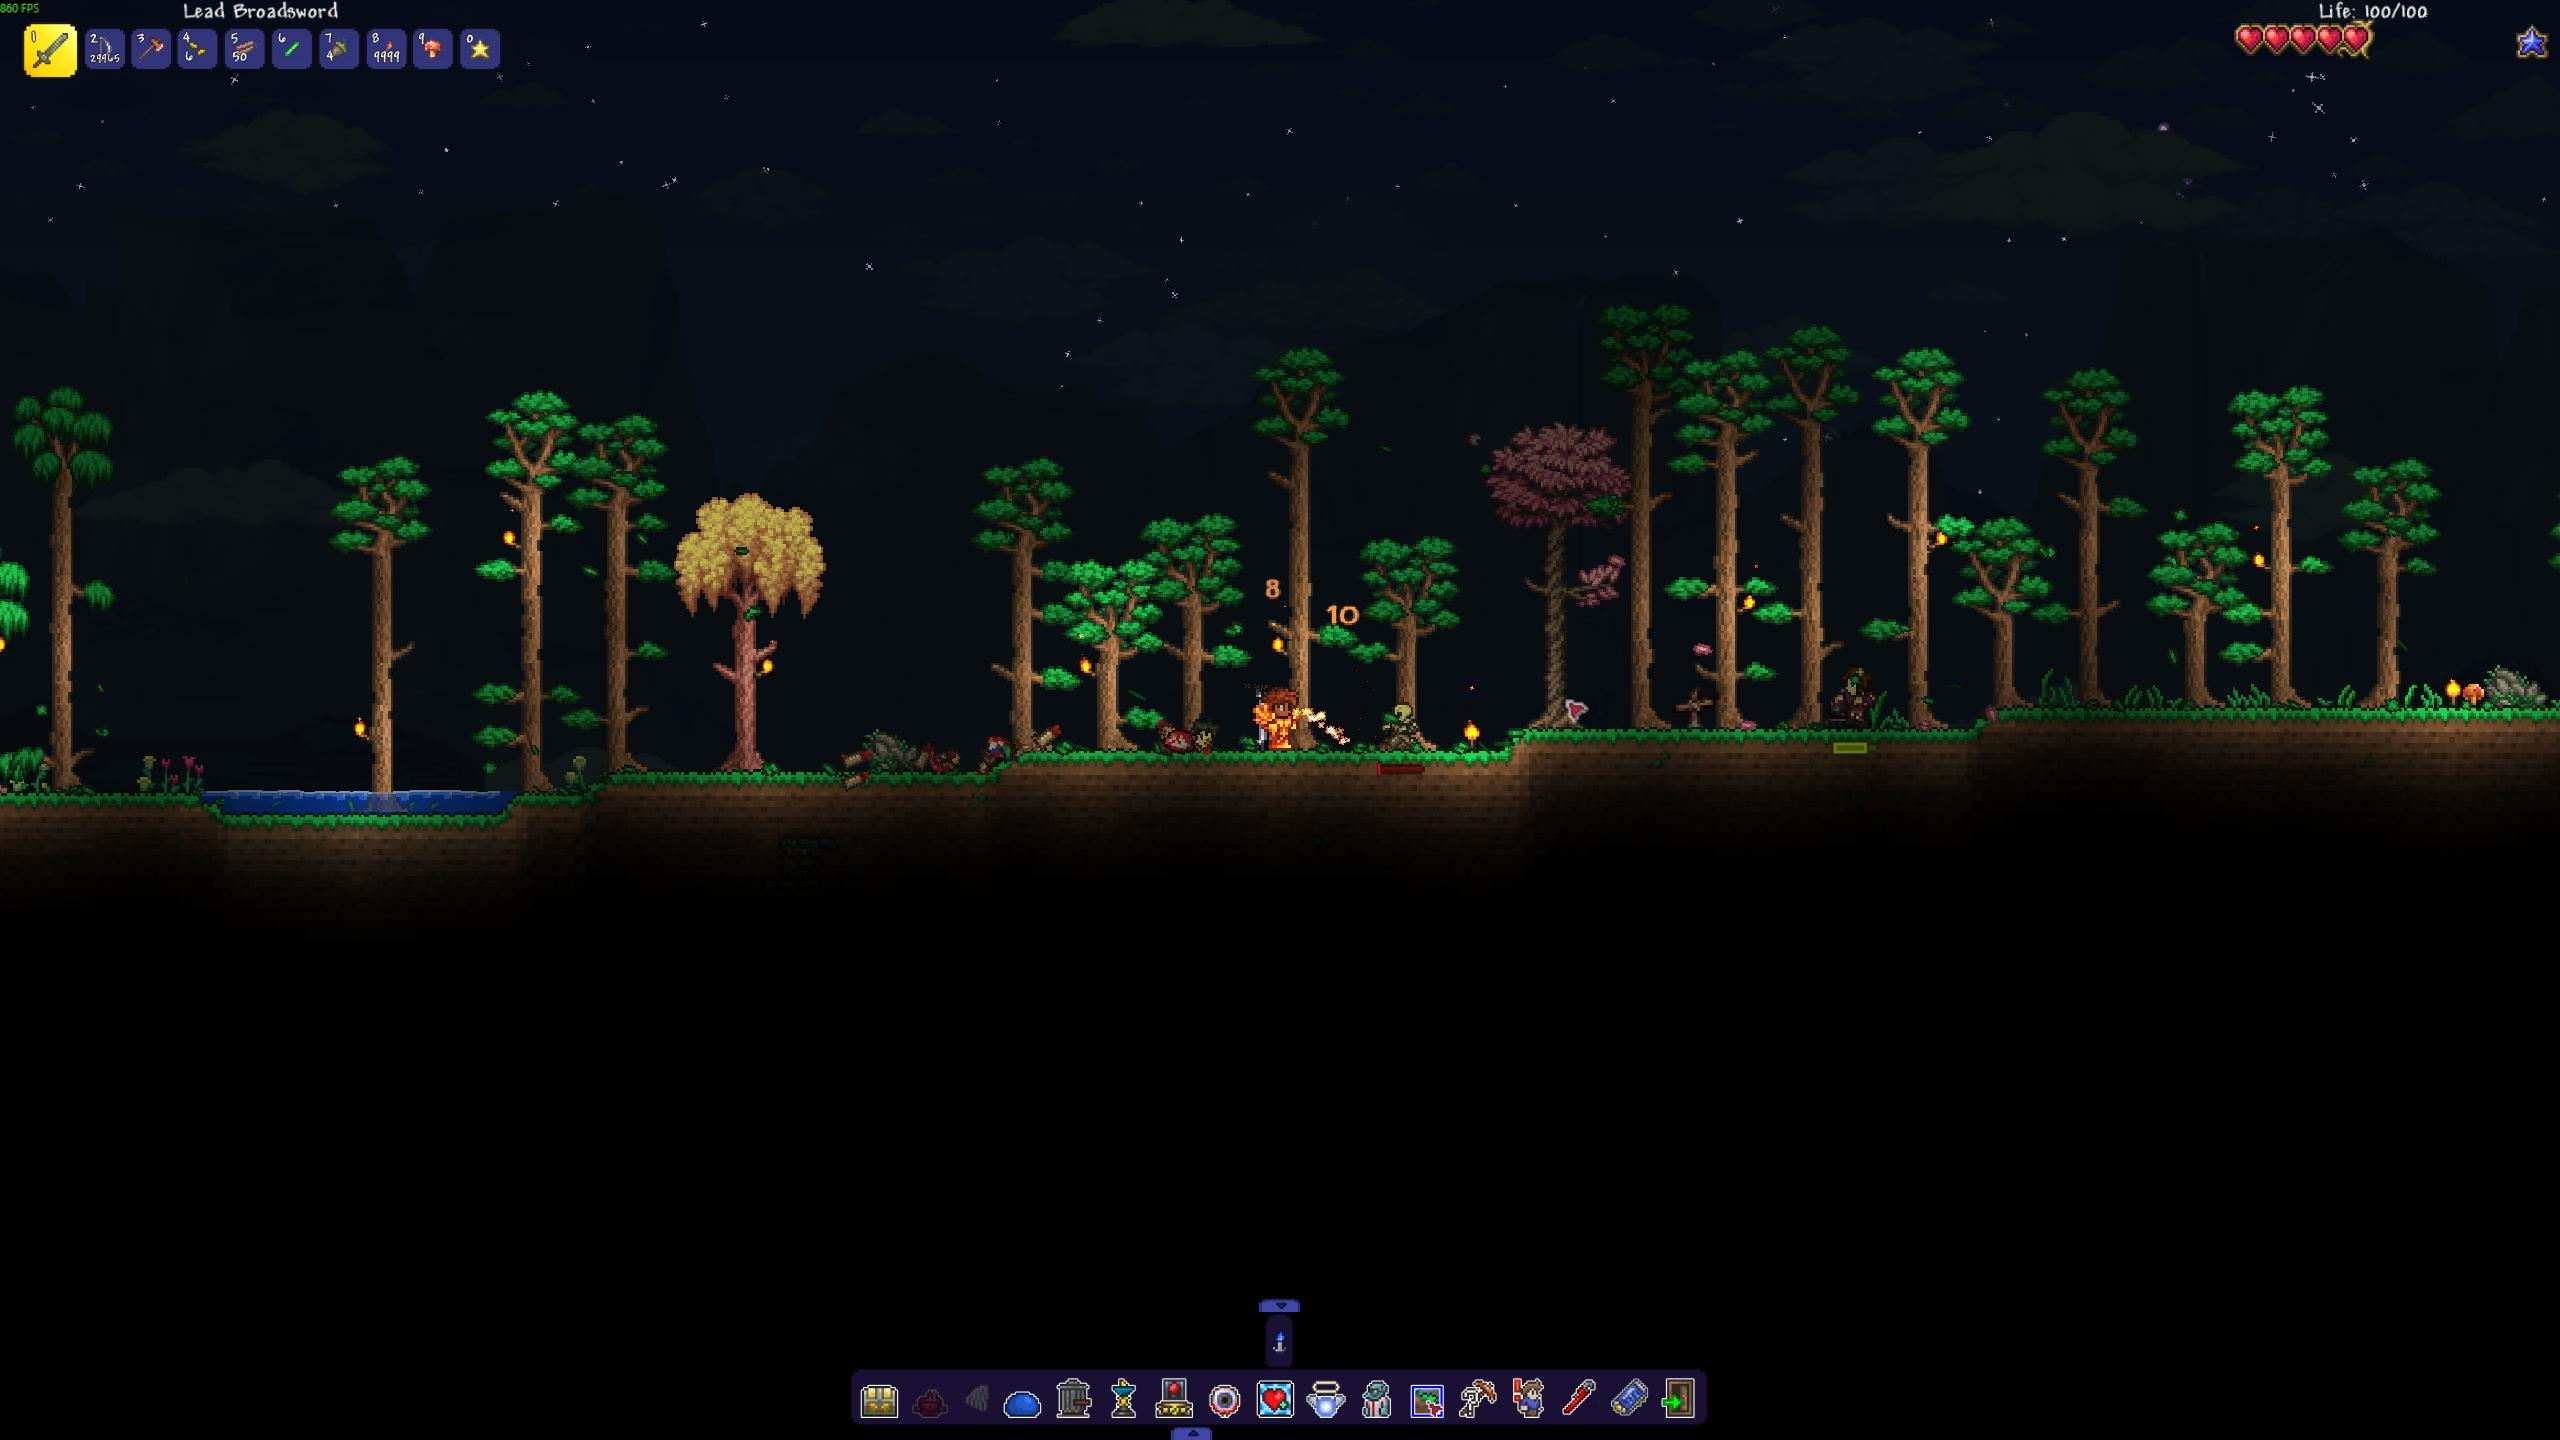Zombie: (1825, 659, 1885, 730), (1375, 695, 1424, 751)
